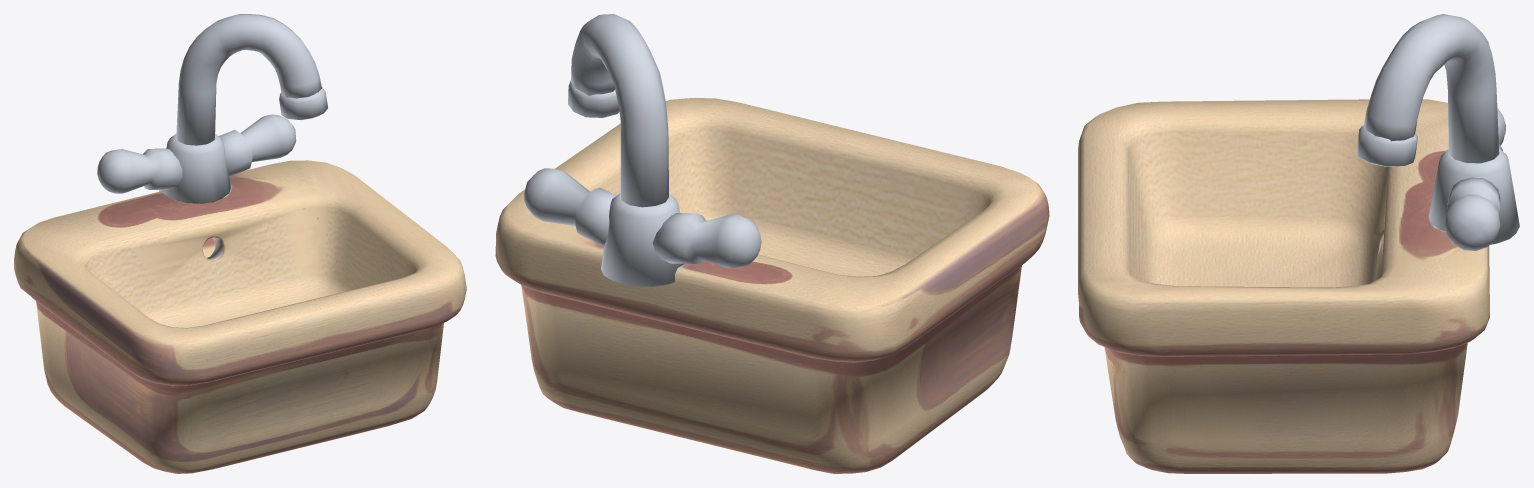
The model's file is 019dfcca-bd9e-7a36-a4b4-2fa2c5165d15.glb.
The picture shows the model from 3 angles, left to right: view 1: azimuth 30°, elevation 25°; view 2: azimuth 150°, elevation 25°; view 3: azimuth 270°, elevation 25°; orthographic projection. The views are drawn at different scales.
Visible parts, largest first — view 1: tripo_node_b24db84b-ae7d-4c57-a195-0fc4bf621012; view 2: tripo_node_b24db84b-ae7d-4c57-a195-0fc4bf621012; view 3: tripo_node_b24db84b-ae7d-4c57-a195-0fc4bf621012.
Part boxes in pixels (bbox=[...]): tripo_node_b24db84b-ae7d-4c57-a195-0fc4bf621012: bbox=[14, 14, 466, 473]; tripo_node_b24db84b-ae7d-4c57-a195-0fc4bf621012: bbox=[495, 14, 1049, 473]; tripo_node_b24db84b-ae7d-4c57-a195-0fc4bf621012: bbox=[1078, 14, 1519, 473].
Bounding box in the file's own units: 0.998 × 0.959 × 0.9238.
1 material, 1 textured.
